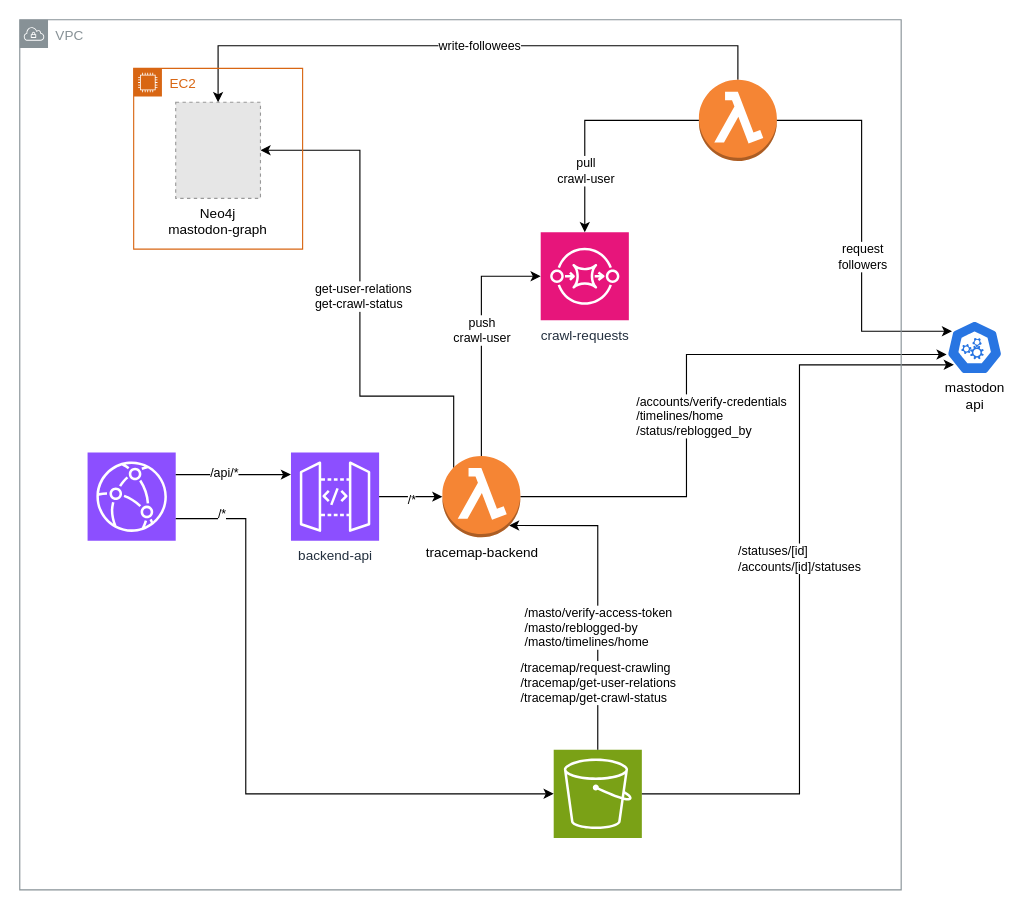
This 1024x910 diagram has some shape labels left out. Grey dashed boxes stand in for pictures. The centre of each missing label's shape, as x and y in pixels:
cloudfront tracemap.eikemu.com: point (131, 496)
S3 website: point (597, 793)
tracemap-crawler: point (737, 120)
